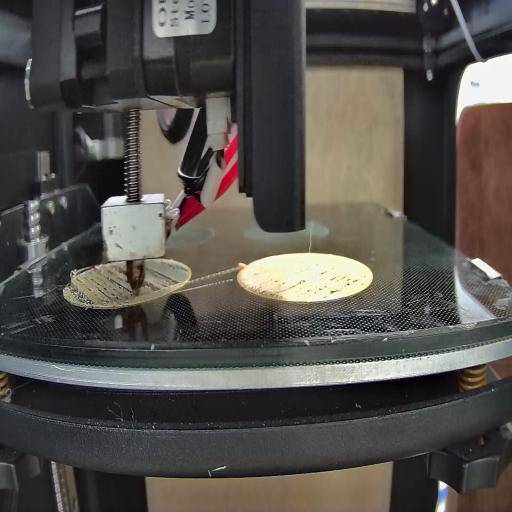under_extrusion: (65, 262, 132, 306), (280, 270, 366, 296), (143, 263, 190, 293), (241, 270, 279, 302)
